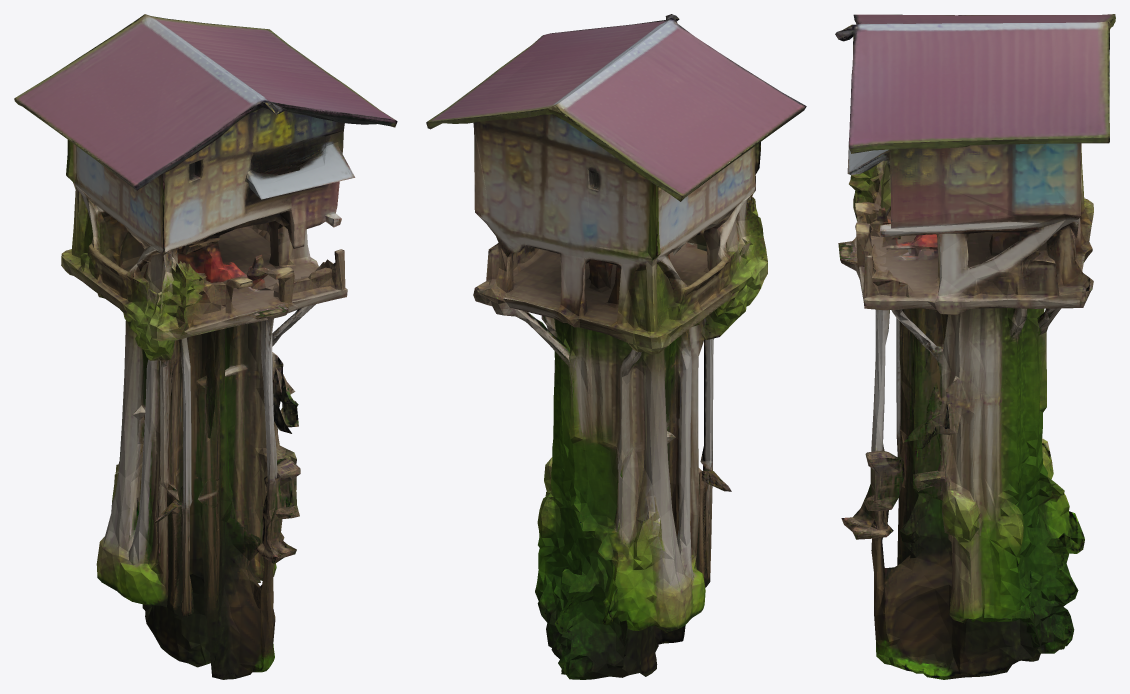
File: papua-selatan.glb
3 views of the same model, side by side, from view 1: azimuth 30°, elevation 25°; view 2: azimuth 150°, elevation 25°; view 3: azimuth 270°, elevation 25° (orthographic). The views are drawn at different scales.
Parts seen in each view (by area): view 1: world; view 2: world; view 3: world.
Part boxes in pixels (bbox=[...]): world: bbox=[14, 14, 397, 679]; world: bbox=[426, 14, 806, 679]; world: bbox=[835, 14, 1115, 679].
Bounding box in the file's own units: 0.2288 × 0.5007 × 0.1979.
1 material, 1 textured.
